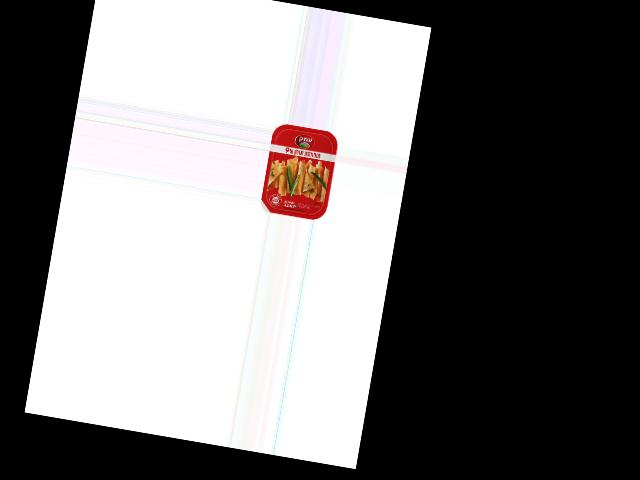cheese: (259, 121, 340, 222)
